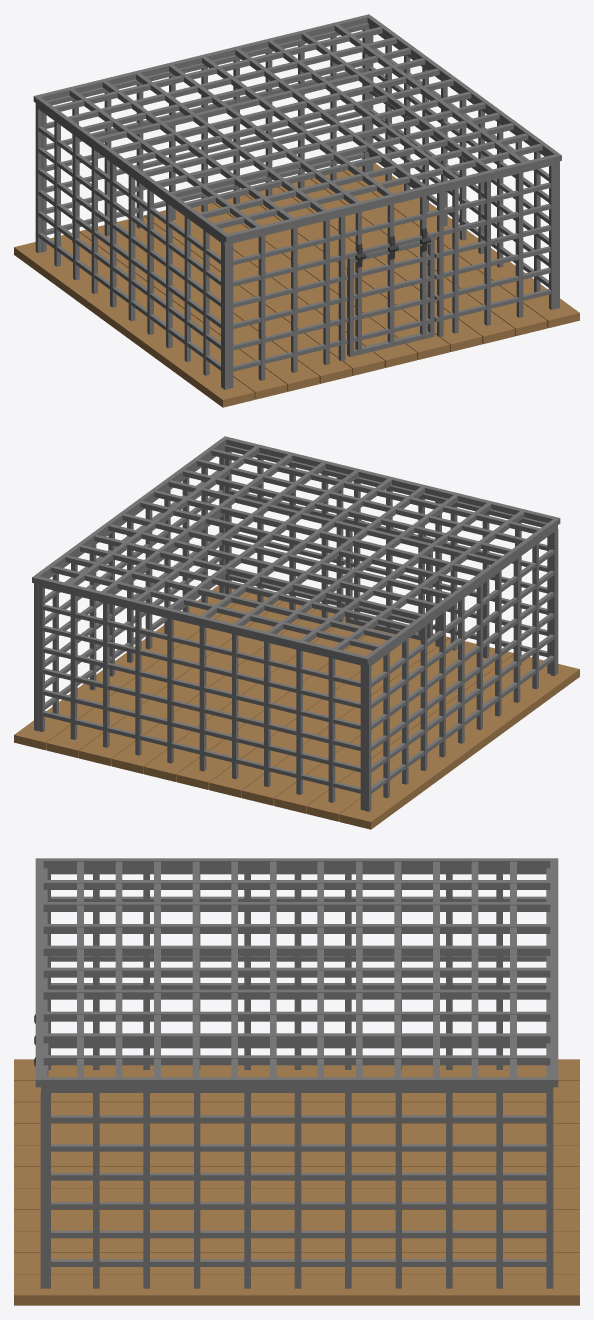
File: CageV1.0.fbx
3 renders of one model, top to bottom at view 1: azimuth 30°, elevation 25°; view 2: azimuth 150°, elevation 25°; view 3: azimuth 270°, elevation 25°, orthographic. The views are drawn at different scales.
Parts seen in each view (by area): view 1: Cage2.002, Gate.001; view 2: Cage2.002, Gate.001; view 3: Cage2.002.
Part boxes in pixels (x1=…): Cage2.002: x1=14, y1=14, x2=579, y2=407; Gate.001: x1=347, y1=237, x2=434, y2=356; Cage2.002: x1=14, y1=436, x2=579, y2=829; Gate.001: x1=345, y1=520, x2=432, y2=640; Cage2.002: x1=14, y1=858, x2=579, y2=1305.
Bounding box in the file's own units: 1028 × 445 × 1042.
